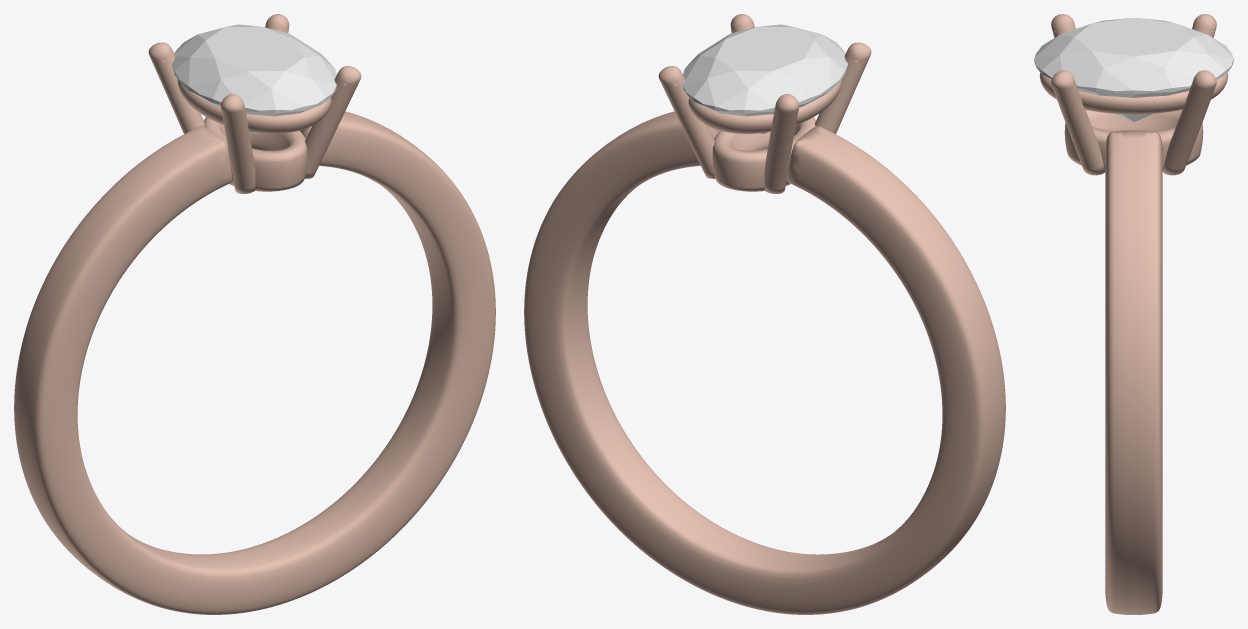
File: diamond-oval-rosegold-4prong-straightband-nosidestones.glb
The picture shows the model from 3 angles, left to right: view 1: azimuth 30°, elevation 25°; view 2: azimuth 150°, elevation 25°; view 3: azimuth 270°, elevation 25°; orthographic projection.
Visible parts, largest first — view 1: metal, stone; view 2: metal, stone; view 3: metal, stone.
Part boxes in pixels (bbox=[...]): metal: bbox=[14, 14, 495, 614]; stone: bbox=[172, 24, 336, 133]; metal: bbox=[524, 14, 1005, 614]; stone: bbox=[683, 24, 847, 133]; metal: bbox=[1039, 14, 1228, 614]; stone: bbox=[1034, 17, 1233, 121].
Bounding box in the file's own units: 20.51 × 23.41 × 7.64.
